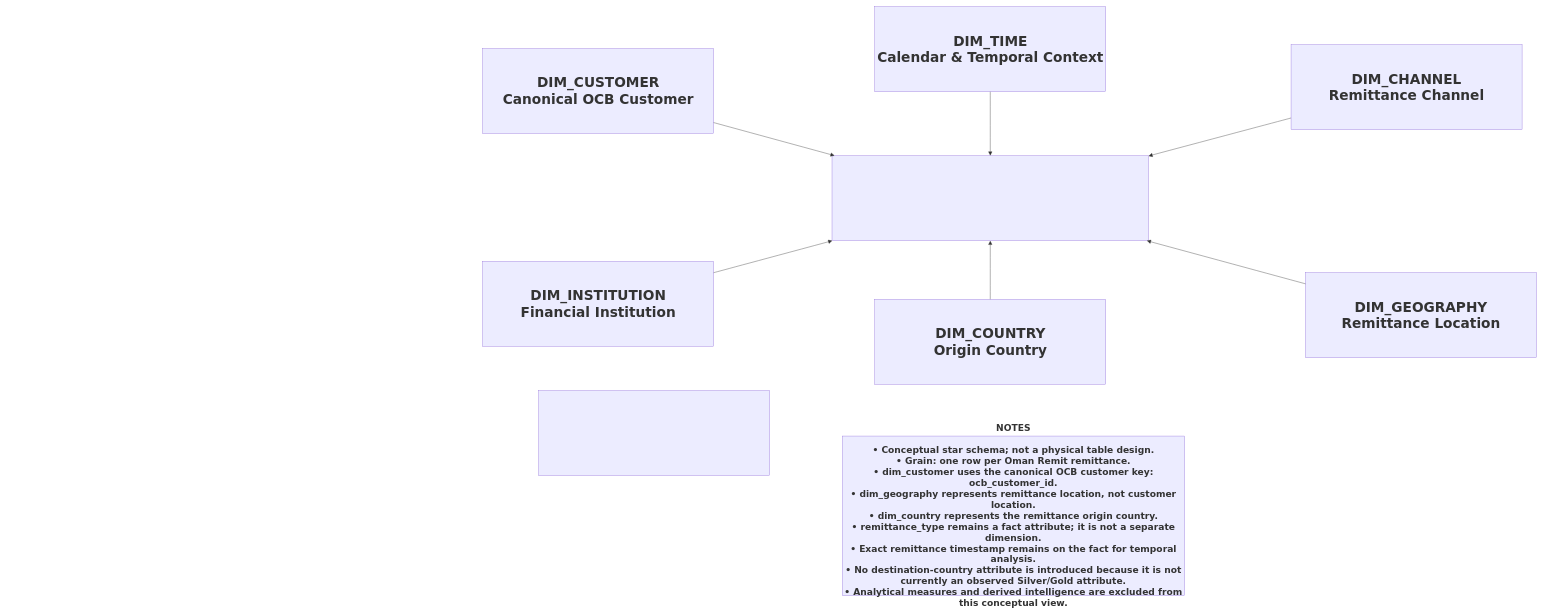
Image size: 1555x616. Some labels were removed from this diagram. Here are the shapes that lost their labels. From the top down, the centre of each, then its label:
At [990,198]: "FACT_REMITTANCE Grain: One row per Oman Remit remittance".
At [654,433]: "remittance_type Fact Attribute".
